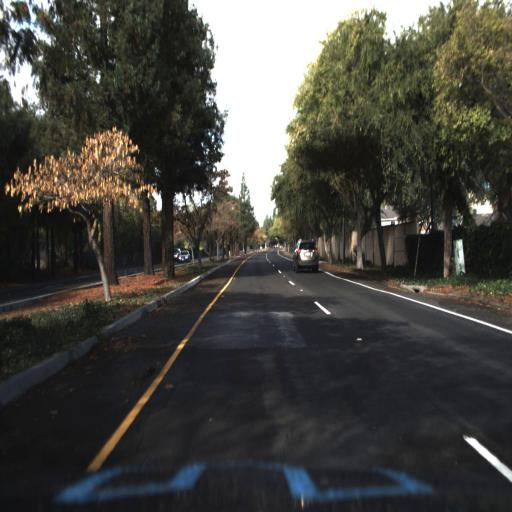car: (291, 235, 322, 274)
